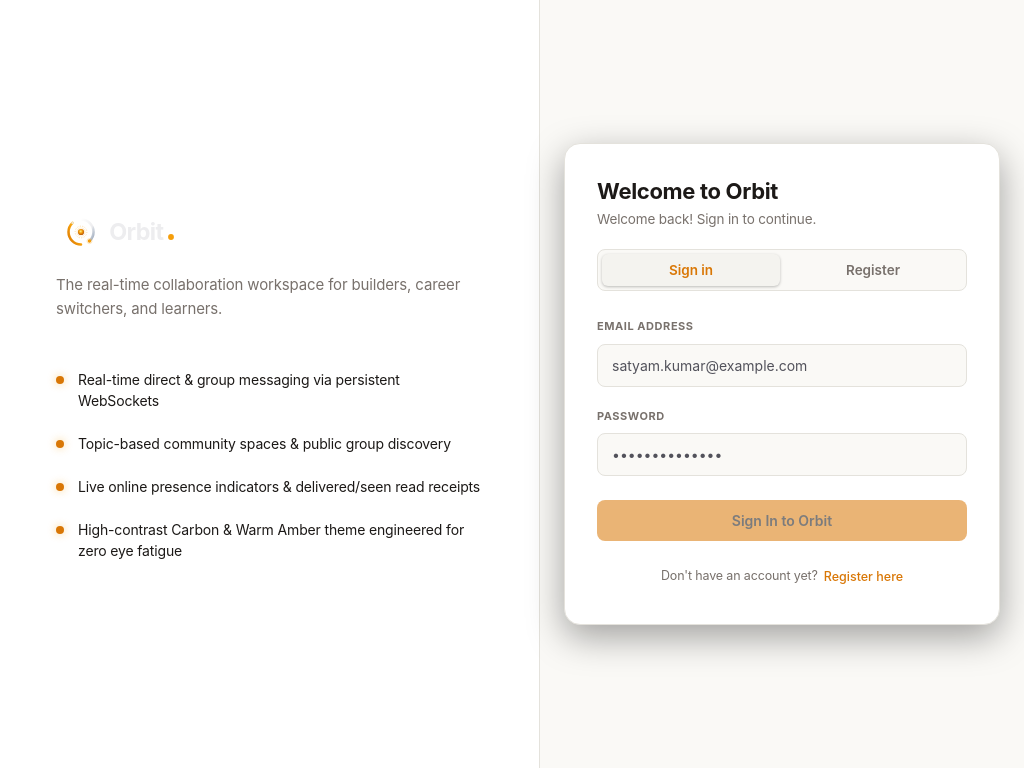
Test: AuthComponent › should update tab active class and subtitle when switching modes via UI tabs
The width and height of the screenshot is (1024, 768).
Expected: the element showing "EMAIL ADDRESS PASSWORD Sign In to Orbit" is shown, [597,315,967,541]
What coordinates should you click on to do the following:
click the tab with class "tab-button" showing "Register"
I would click on:
 (873, 270)
Its box is [784,254,962,286].
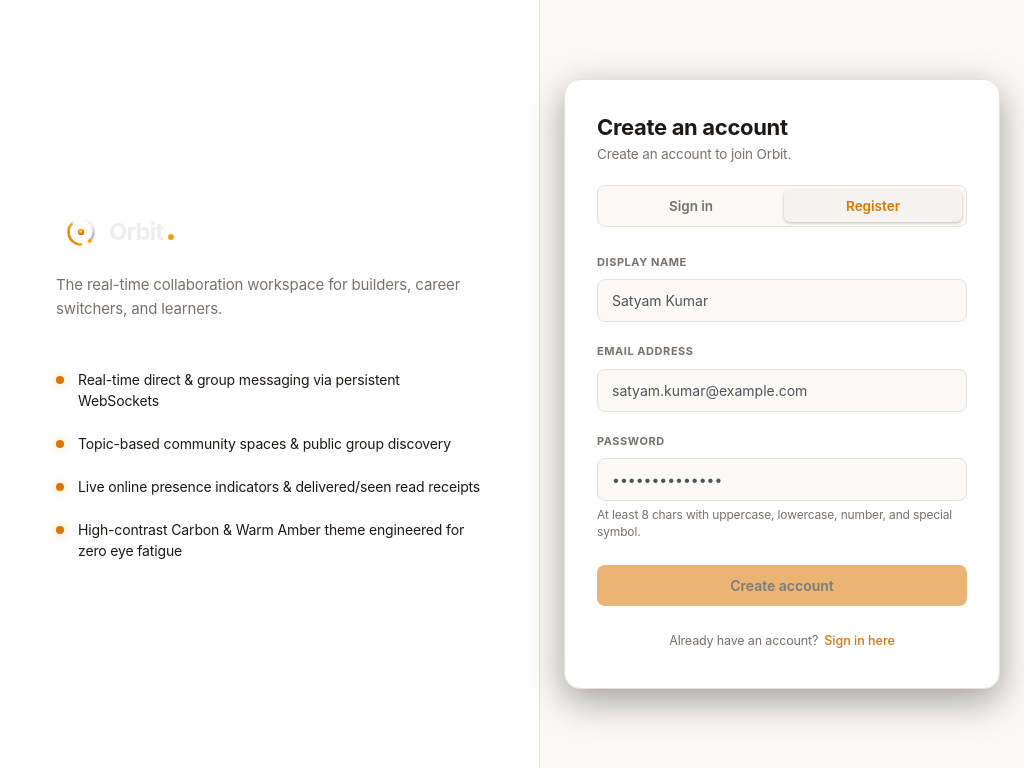
Expected: the text with class "auth-subtitle" reads "Create an account to join Orbit.", [597,146,791,162]
Expected: the element that starts with "DISPLAY NAME" is shown, [597,251,967,606]
